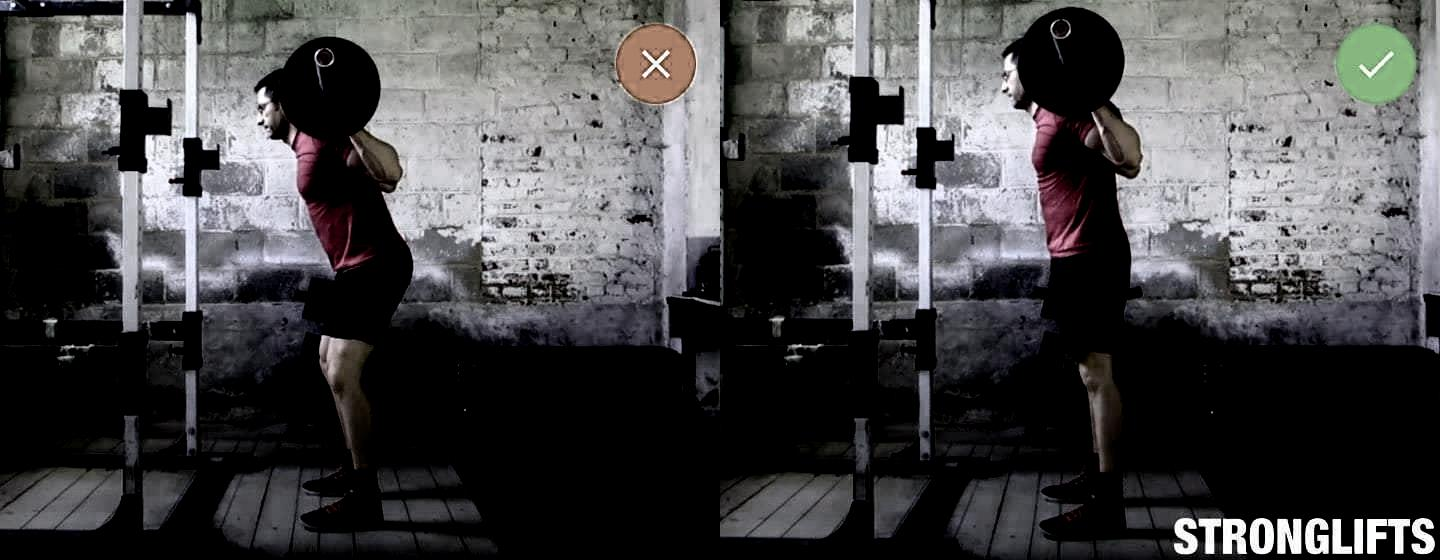Barbell: (1049, 18, 1075, 42), (314, 46, 336, 70)
